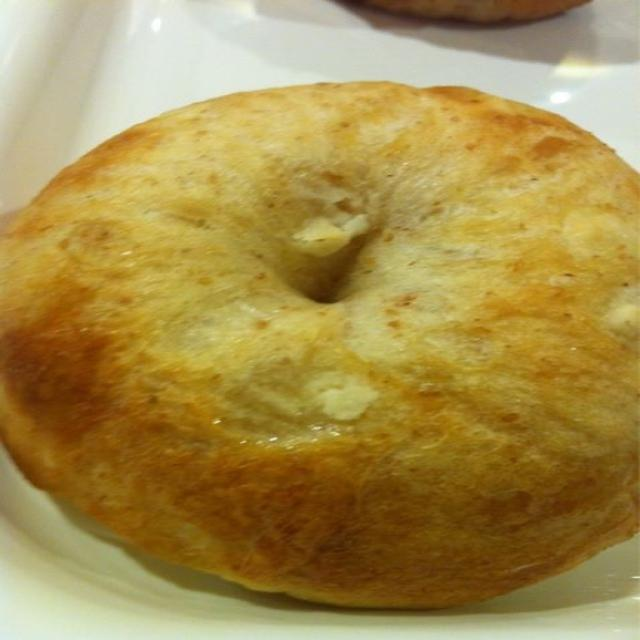面包点心: (3, 34, 633, 616)
